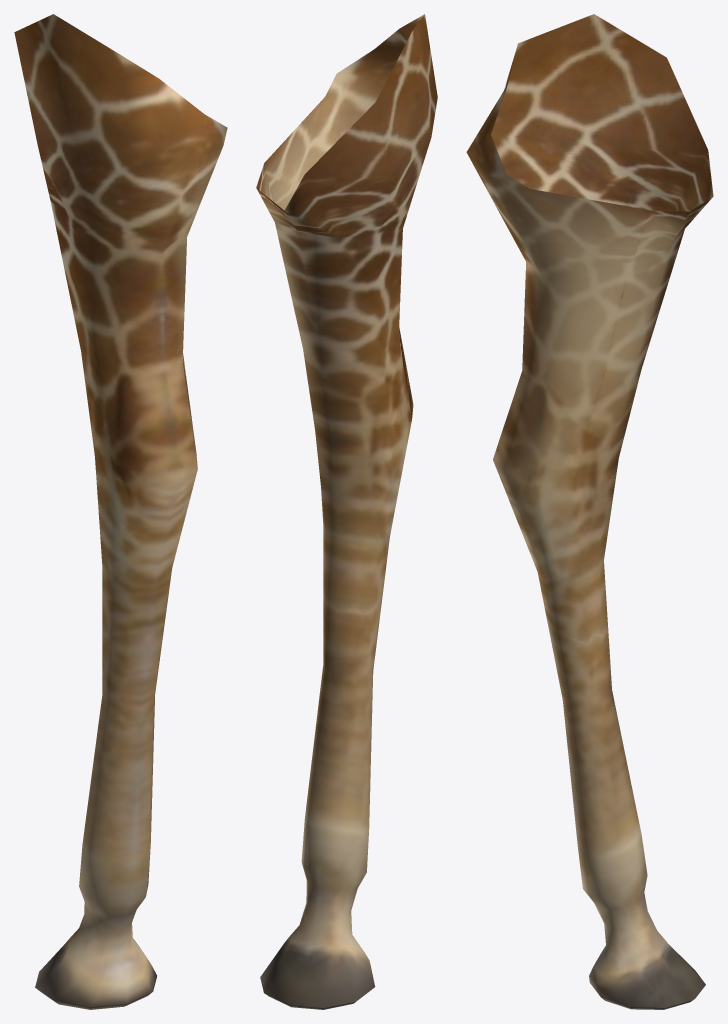
File: jB_leftleg.obj
3 views of the same model, side by side, from view 1: azimuth 30°, elevation 25°; view 2: azimuth 150°, elevation 25°; view 3: azimuth 270°, elevation 25° (orthographic). The views are drawn at different scales.
Parts seen in each view (by area): view 1: 1.004; view 2: 1.004; view 3: 1.004.
Boxes of the visible parts, x1,y1,x2,y2 form: 1.004: [14, 14, 227, 1009]; 1.004: [256, 14, 437, 1009]; 1.004: [466, 14, 713, 1009].
Size of the model in its own units: 0.5682 by 4.32 by 1.03.
Materials: 1 (1 with a texture image).
